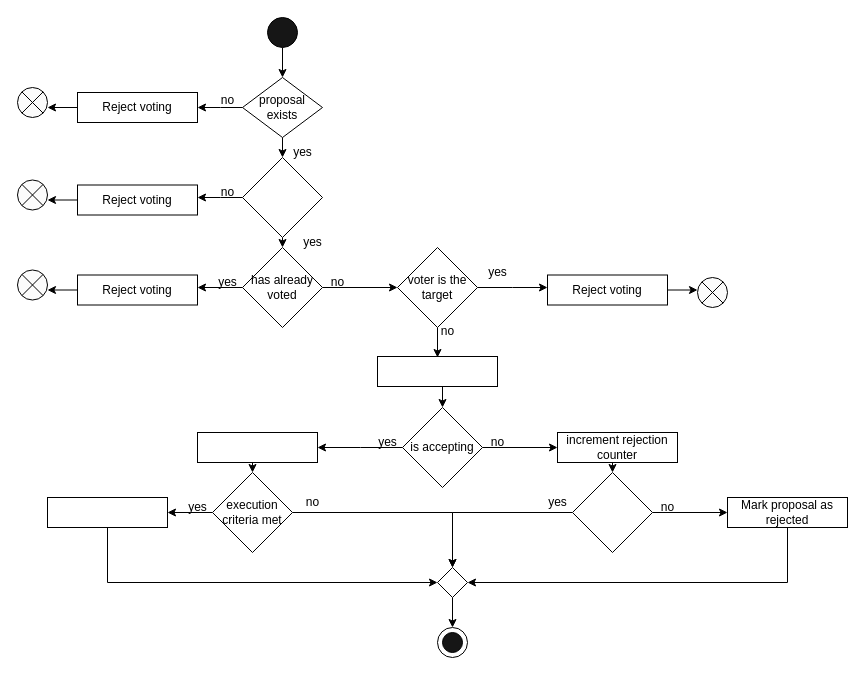
Some shapes in this 865 by 675 pixel diagram are drawn without their labels. The centre of each missing label's shape, as x and y in pixels:
can reach quorum: pixel 612 512
execute request: pixel 107 512
increment approval counter: pixel 257 447
is proposal pending: pixel 282 197
Register sender as voter: pixel 437 371
